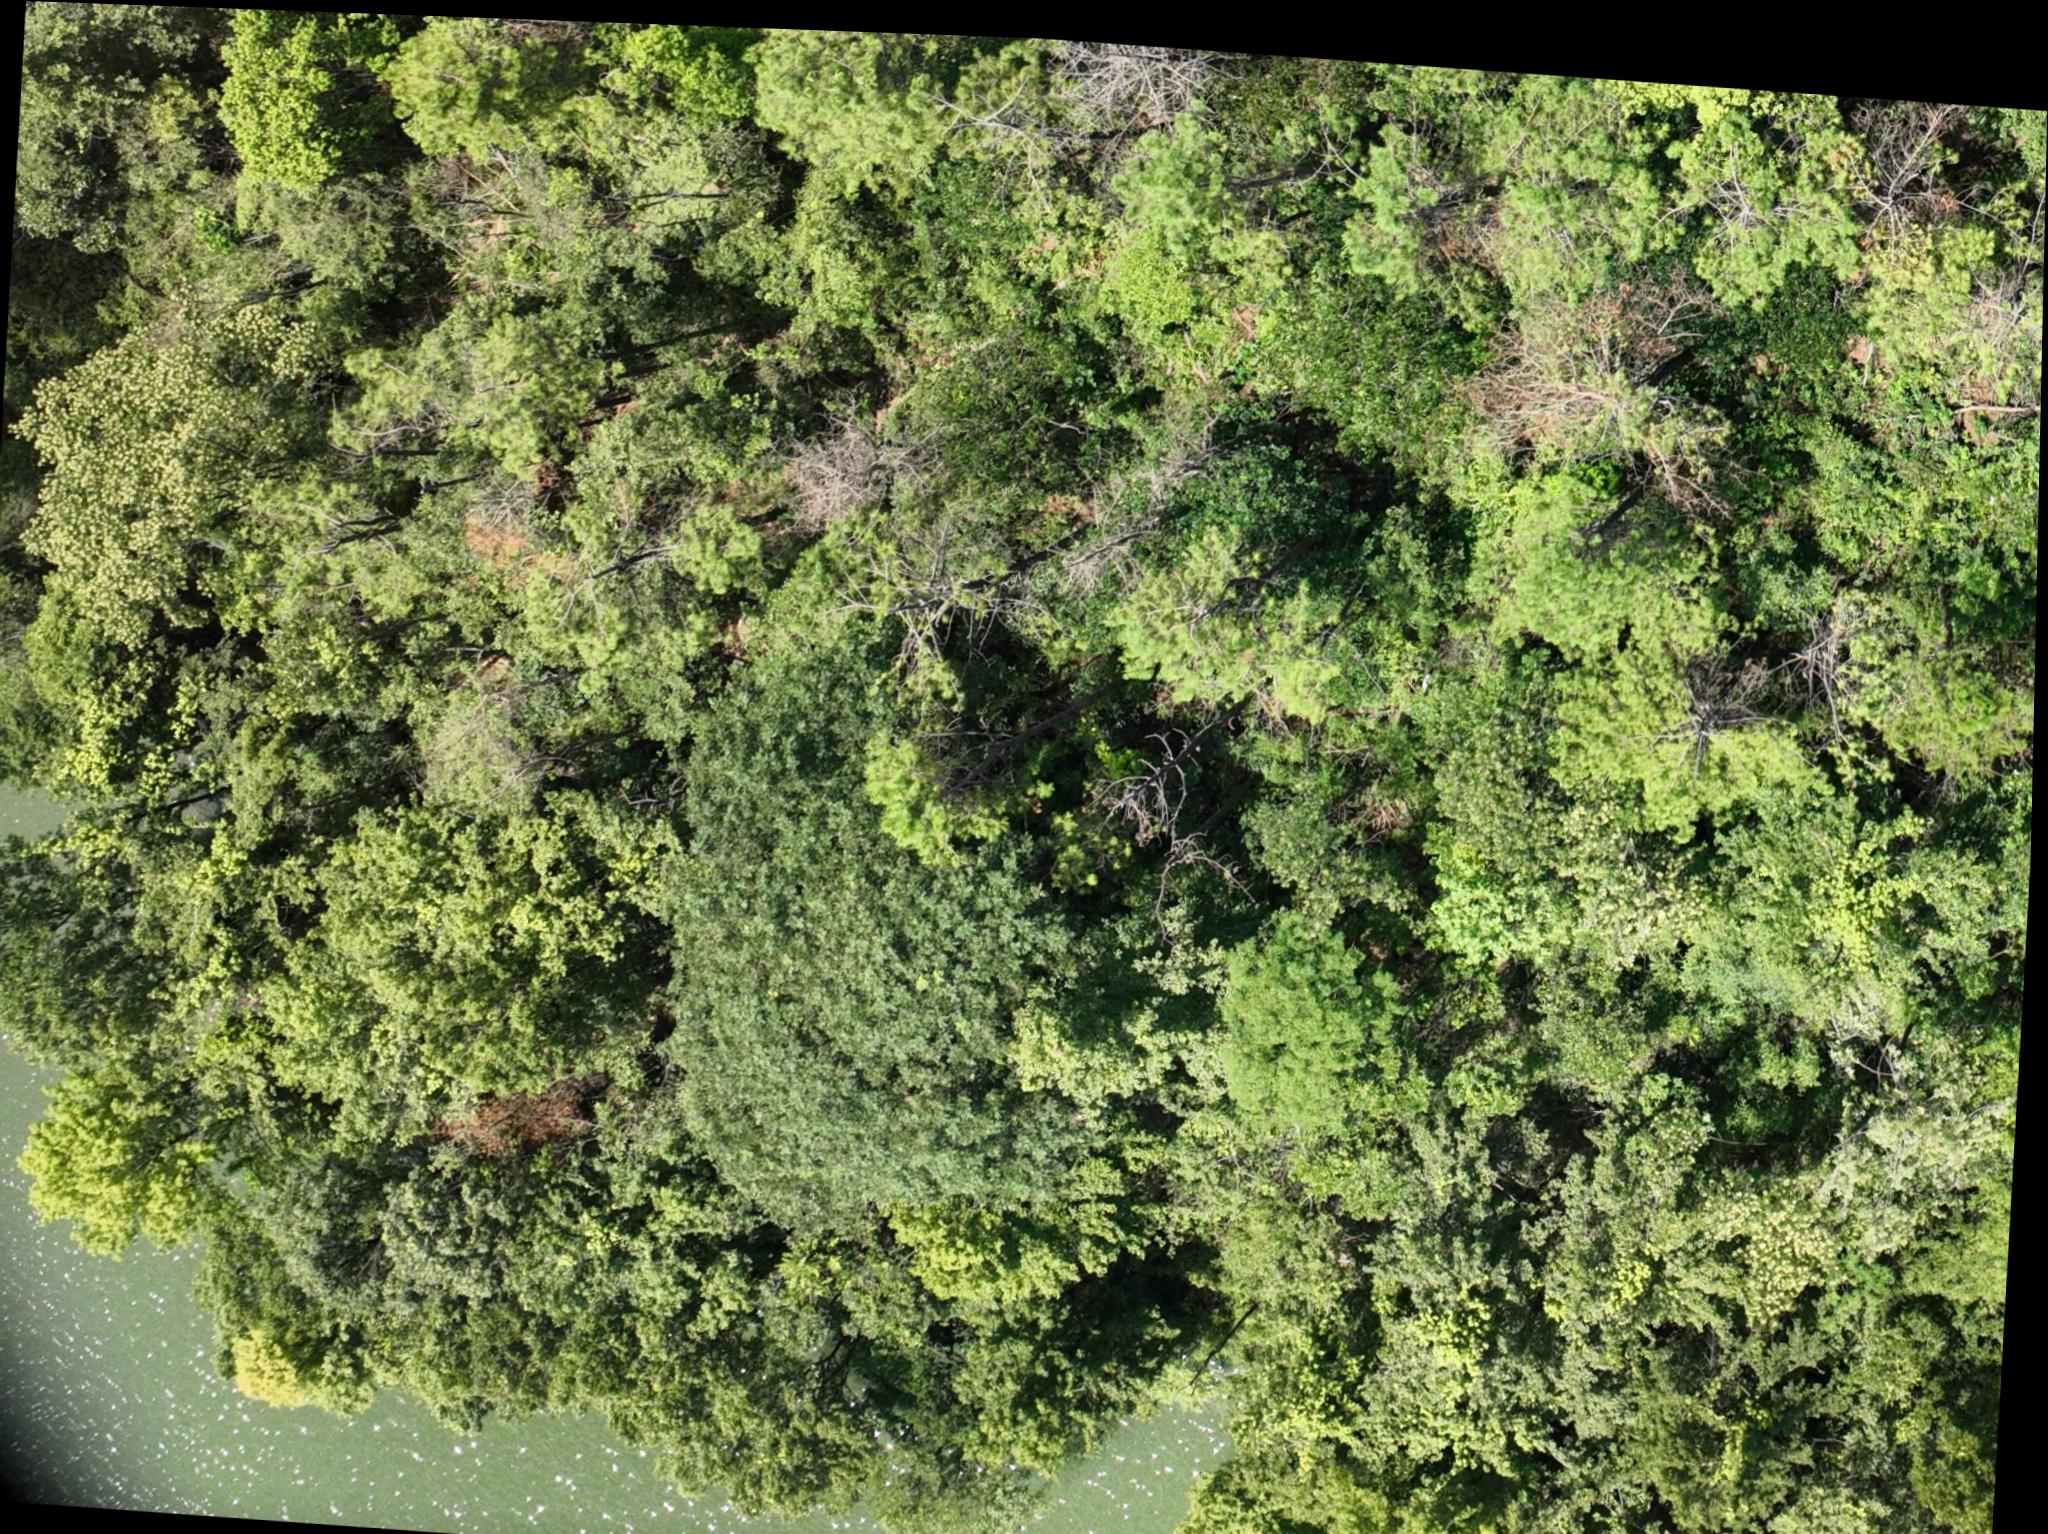dead: (775, 413, 891, 535), (1070, 37, 1205, 121)
heavy: (435, 1067, 599, 1159)
